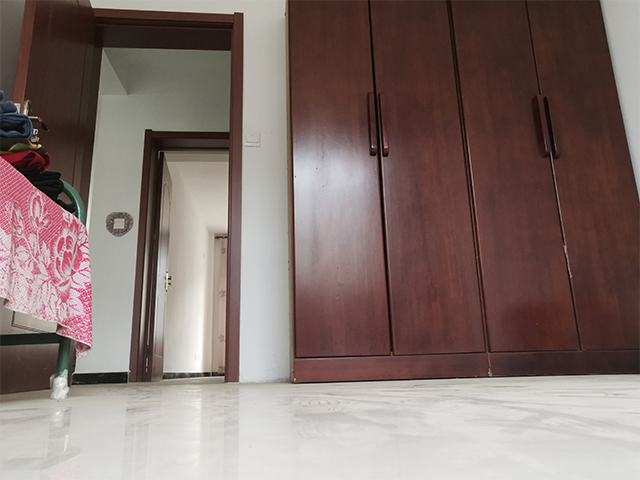bed: (1, 158, 95, 401)
cabinet: (283, 1, 640, 386)
curtain: (214, 235, 226, 378)
